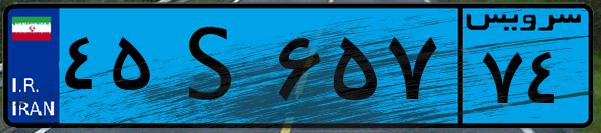4: (57, 26, 110, 100), (525, 38, 570, 115)
5: (330, 28, 385, 110), (110, 28, 158, 98)
6: (270, 28, 330, 110)
7: (385, 28, 445, 110), (475, 38, 525, 113)
S: (158, 12, 270, 120)
